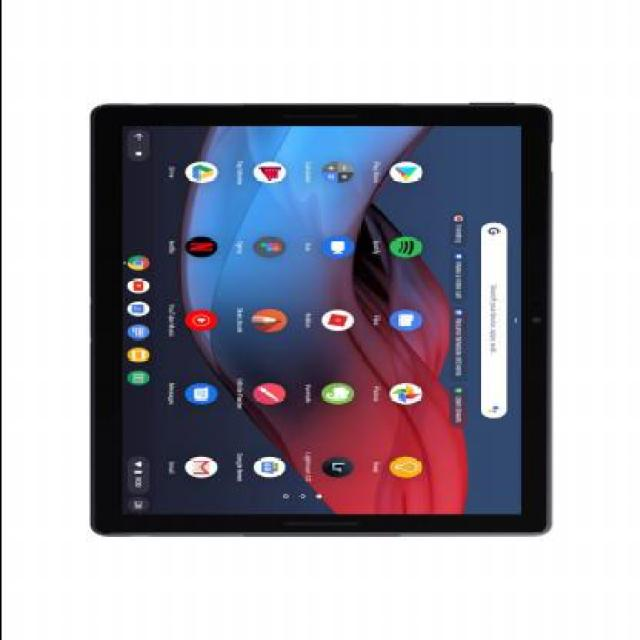tablet: (63, 76, 594, 570)
